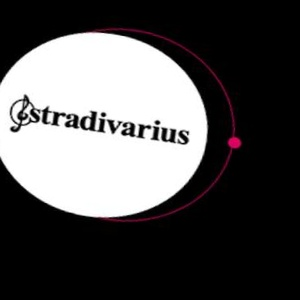stradivarius: (175, 56, 228, 175)
